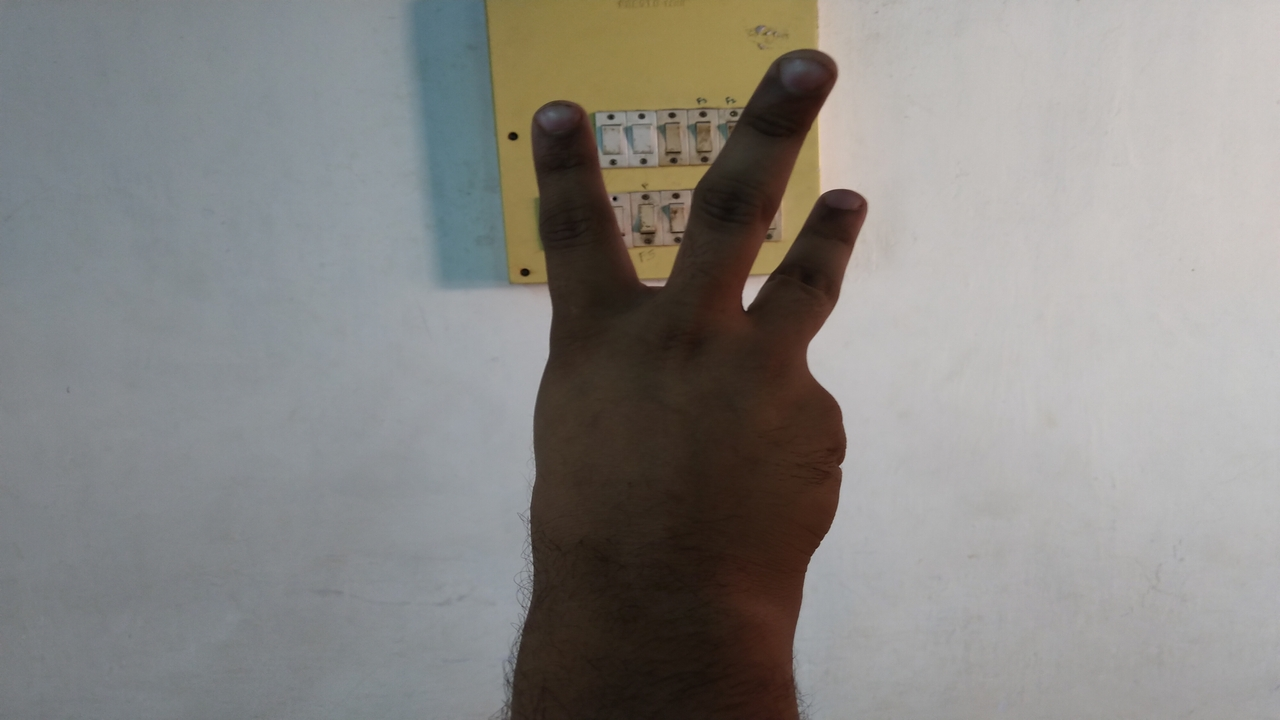fingertip: (772, 44, 842, 106), (808, 180, 874, 230), (532, 102, 588, 148)
